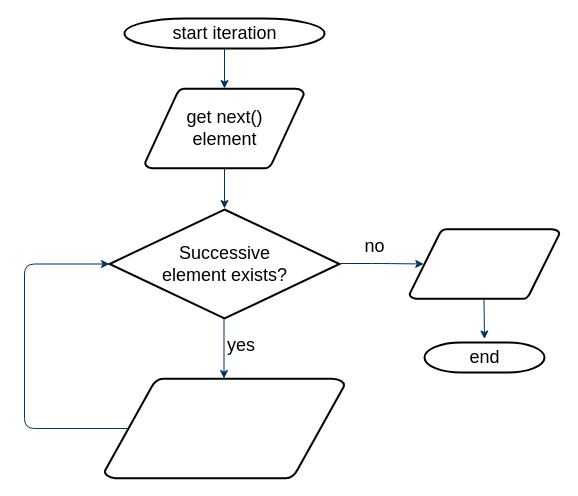
Some shapes in this 578 by 496 pixel diagram are drawn without their labels. Each missing label, with the centre of its shape:
"execute the code on the next() element" belongs at [224,428].
"exit from the iteration" belongs at [484,264].
